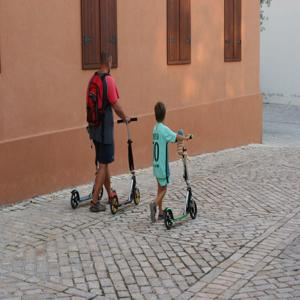human on a scooter: (68, 50, 142, 215), (149, 101, 199, 230)
